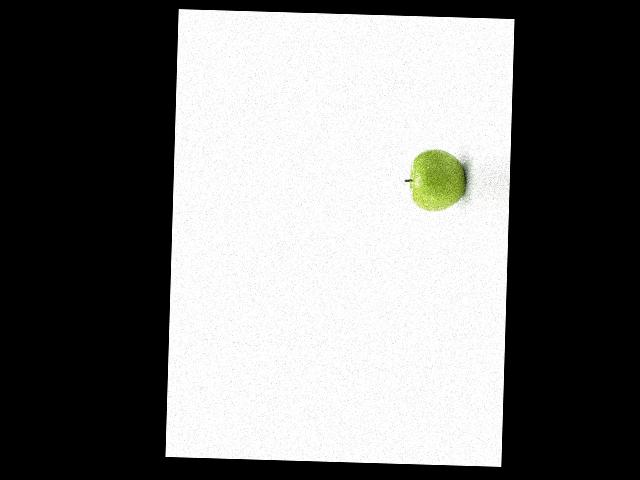apple: (404, 145, 468, 214)
